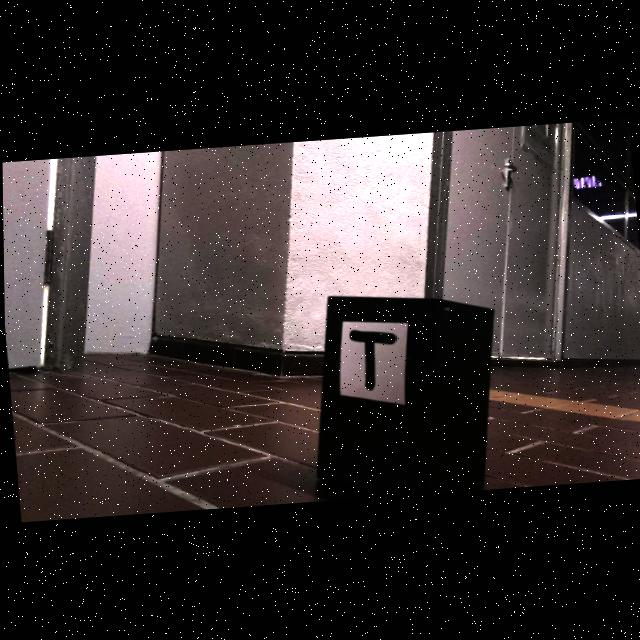T: (349, 329, 395, 390)
